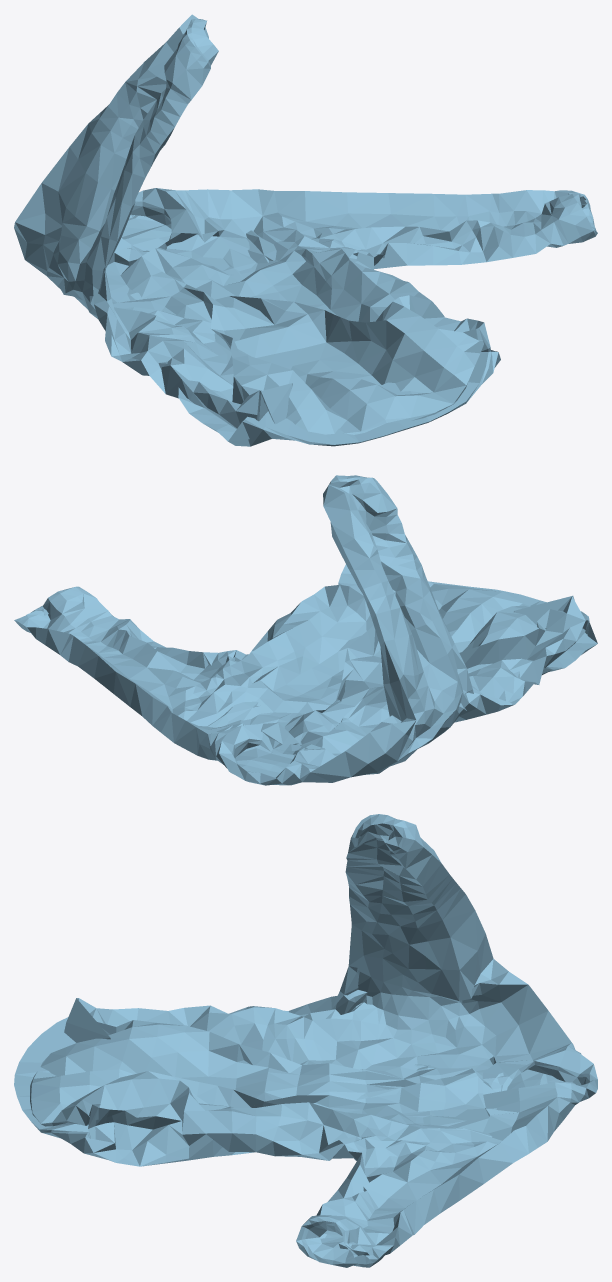
The model's file is frame_15.glb.
The picture shows the model from 3 angles, top to bottom: view 1: azimuth 30°, elevation 25°; view 2: azimuth 150°, elevation 25°; view 3: azimuth 270°, elevation 25°; orthographic projection. The views are drawn at different scales.
Parts seen in each view (by area): view 1: frame_15.obj; view 2: frame_15.obj; view 3: frame_15.obj.
Boxes of the visible parts, x1=… form: frame_15.obj: x1=14, y1=14, x2=597, y2=446; frame_15.obj: x1=14, y1=475, x2=597, y2=785; frame_15.obj: x1=14, y1=814, x2=597, y2=1267.
Bounding box in the file's own units: 1.4 × 0.7592 × 1.39.
